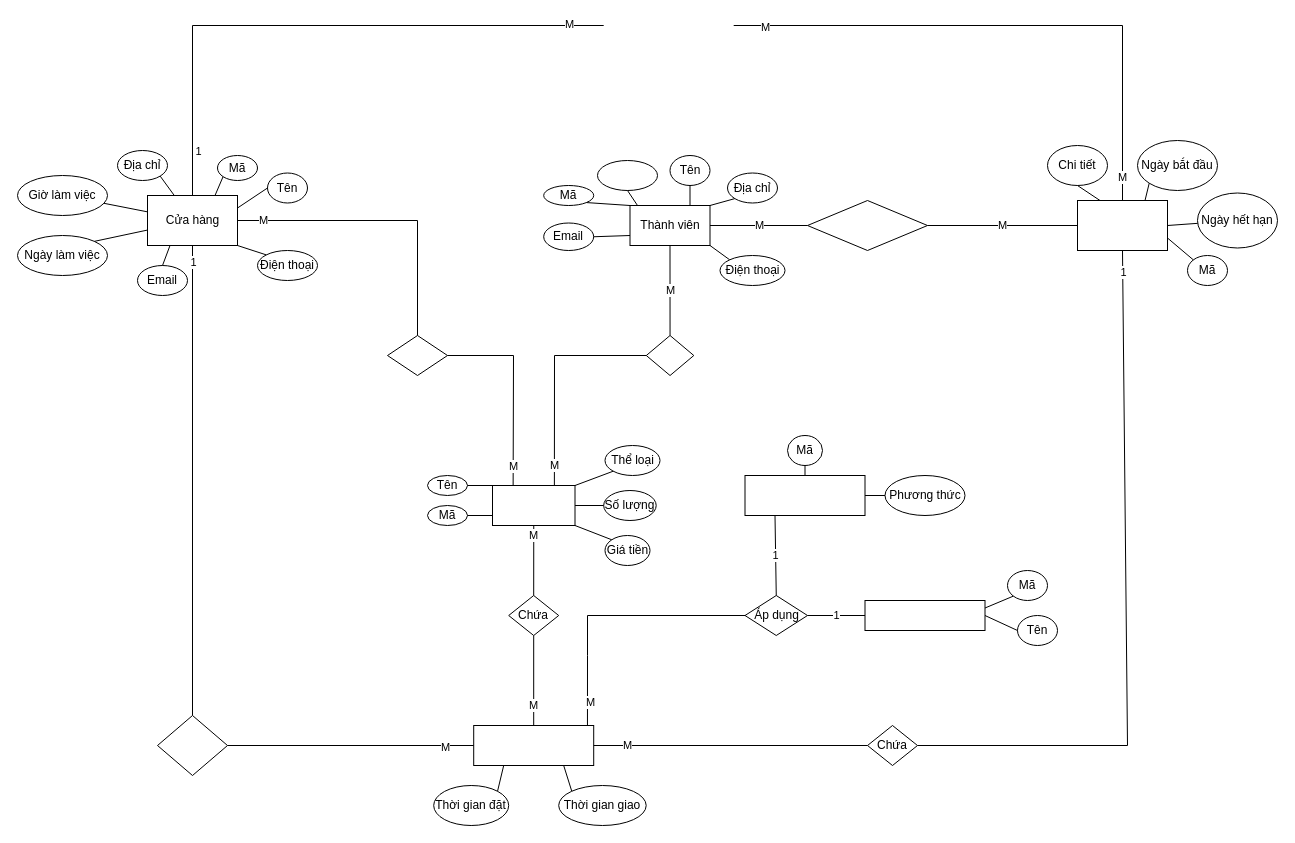
The diagram is 1295 pixels wide and 843 high, and some of its shapes have lost their labels. The centre of each missing label's shape, as x and y in pixels:
"Chốt đơn" belongs at (x=192, y=745).
"Hệ thống thanh toán" belongs at (x=804, y=495).
"Hệ thống vận chuyển" belongs at (x=924, y=615).
"Khuyến mãi" belongs at (x=1122, y=225).
"Lấy khuyến mại" belongs at (x=867, y=225).
"Món" belongs at (x=533, y=505).
"Mua" belongs at (x=669, y=355).
"Mật khẩu" belongs at (x=627, y=175).
"Quản lý" belongs at (x=417, y=355).
"Đặt hàng" belongs at (x=533, y=745).
